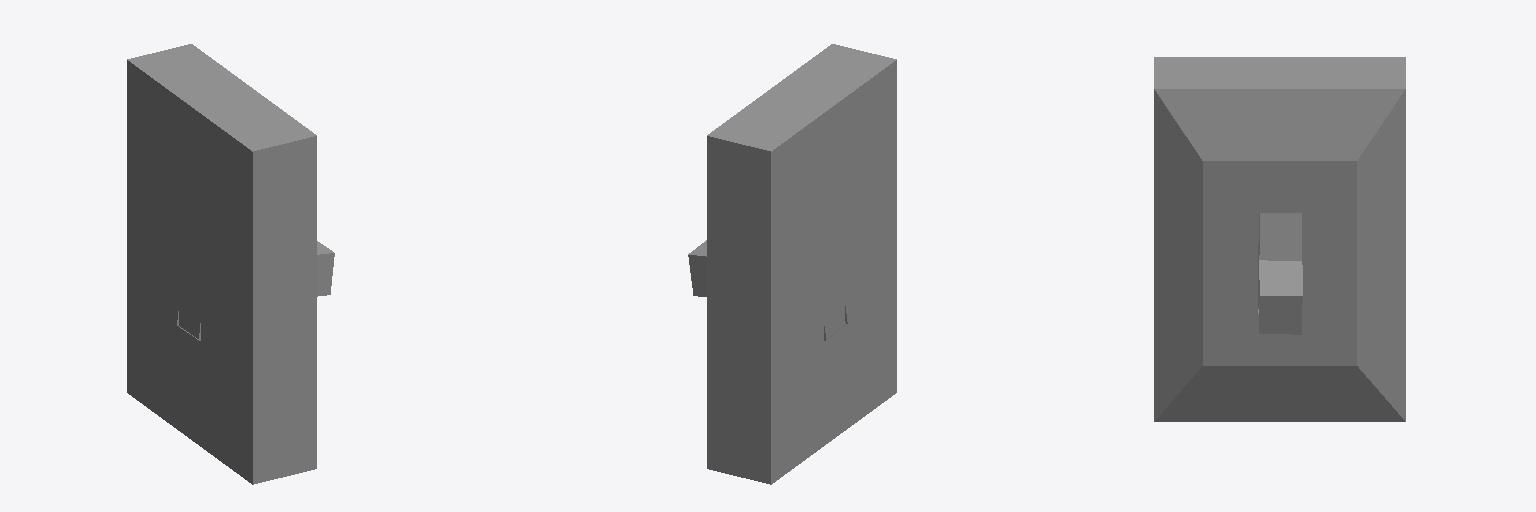
The model's file is lightswitch.obj.
3 views of the same model, side by side, from view 1: azimuth 30°, elevation 25°; view 2: azimuth 150°, elevation 25°; view 3: azimuth 270°, elevation 25° (orthographic).
Visible parts, largest first — view 1: Cube.003_Cube.001, Cube.003_Cube.000; view 2: Cube.003_Cube.001, Cube.003_Cube.000; view 3: Cube.003_Cube.001, Cube.003_Cube.000.
Part boxes in pixels (x1,y1,x2,y2): Cube.003_Cube.001: (127, 44, 316, 484); Cube.003_Cube.000: (177, 241, 334, 340); Cube.003_Cube.001: (707, 44, 896, 484); Cube.003_Cube.000: (688, 240, 847, 340); Cube.003_Cube.001: (1154, 57, 1405, 421); Cube.003_Cube.000: (1258, 213, 1302, 334).
Size of the model in its own units: 0.342 by 0.7921 by 0.5419.